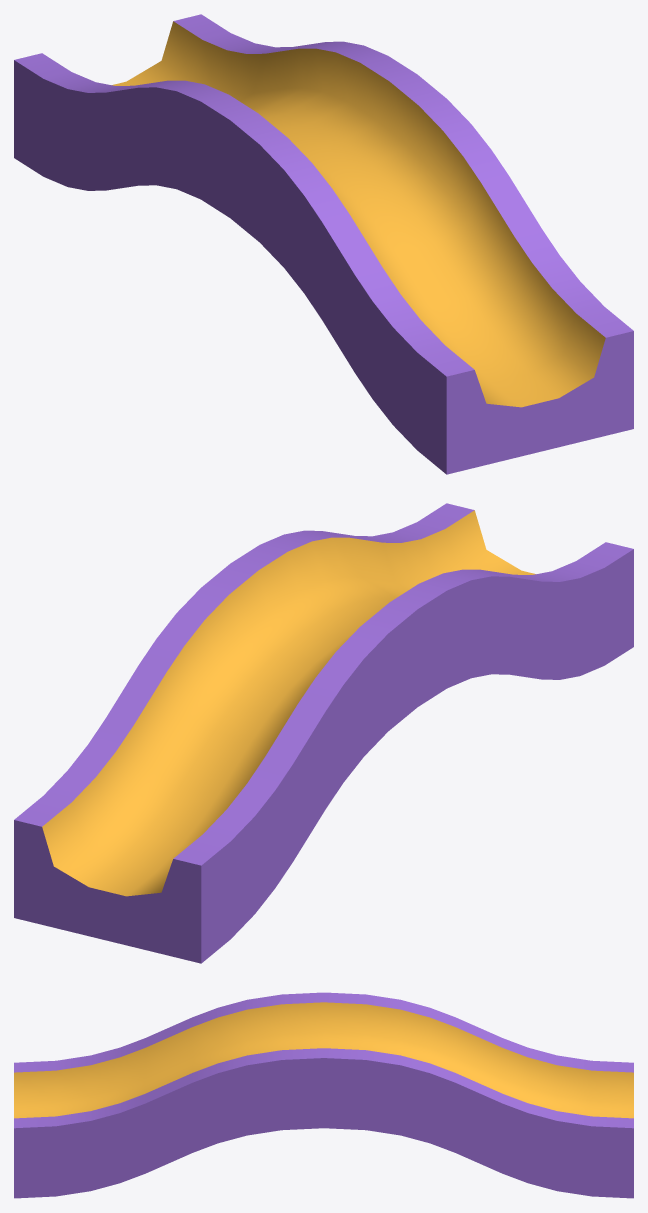
Rendered from kenney-marble-bump-b.glb.
The picture shows the model from 3 angles, top to bottom: view 1: azimuth 30°, elevation 25°; view 2: azimuth 150°, elevation 25°; view 3: azimuth 270°, elevation 25°; orthographic projection. The views are drawn at different scales.
Parts seen in each view (by area): view 1: bump-b; view 2: bump-b; view 3: bump-b.
Boxes of the visible parts, x1,y1,x2,y2 form: bump-b: (14,14,633,474); bump-b: (14,503,633,963); bump-b: (14,992,633,1198).
Size of the model in its own units: 1 by 1 by 4.
1 material, 1 textured.
